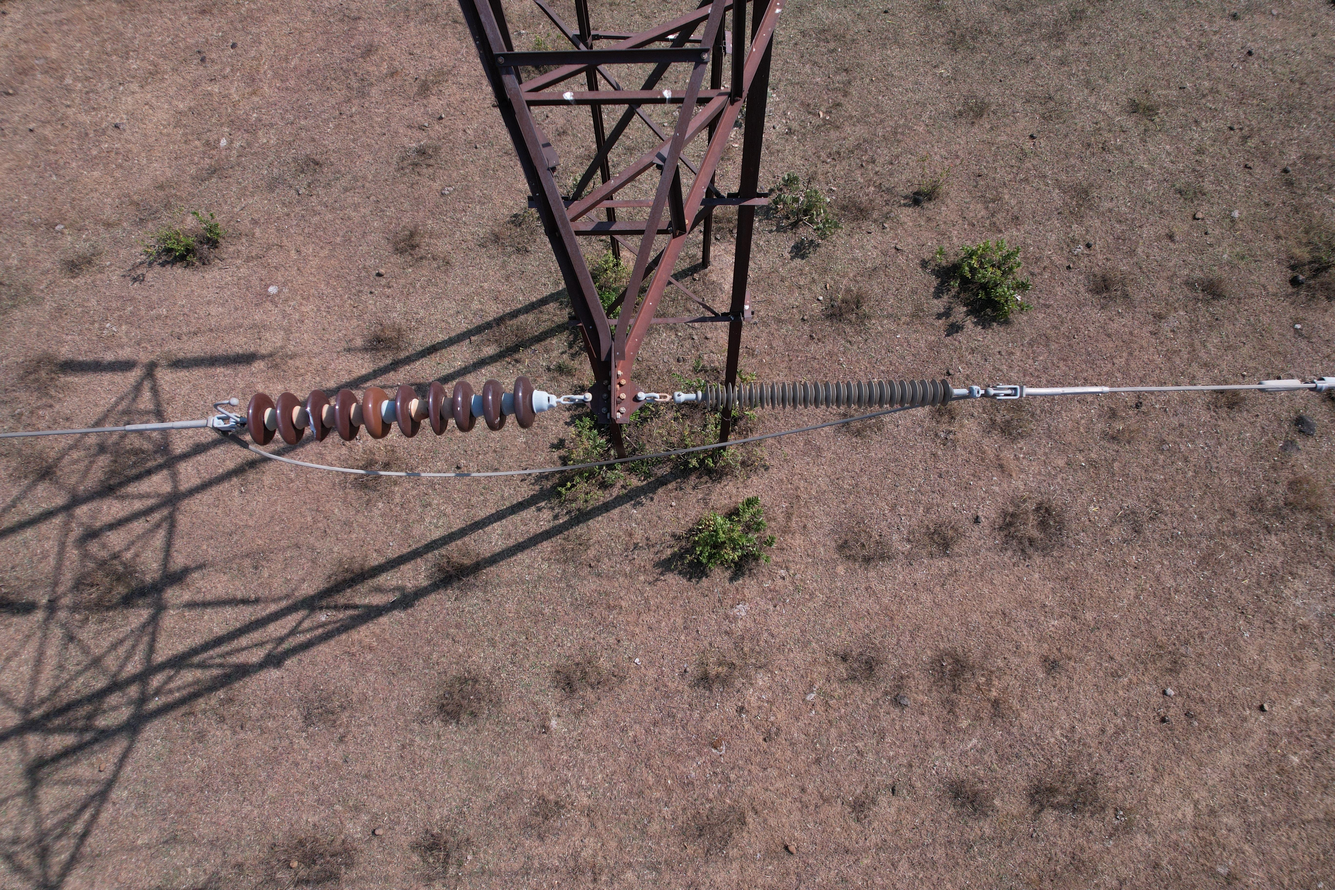broken_insulator: (304, 388, 330, 444)
